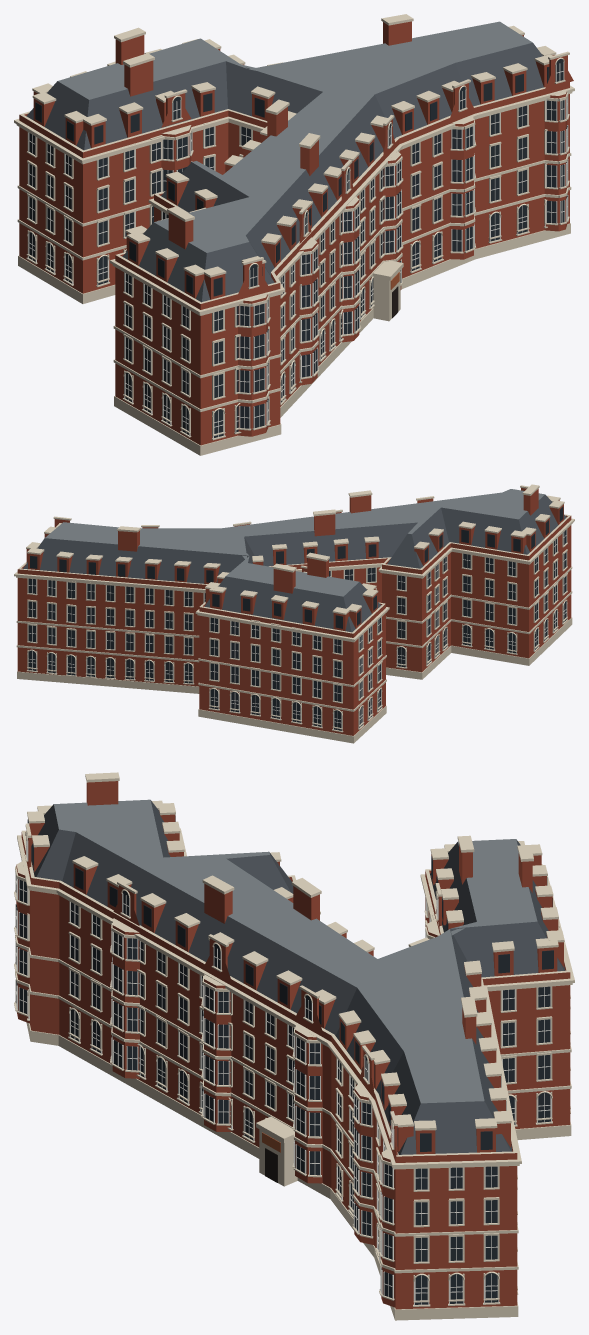
File: queen_alexandras_house.glb
3 renders of one model, top to bottom at view 1: azimuth 30°, elevation 25°; view 2: azimuth 150°, elevation 25°; view 3: azimuth 270°, elevation 25°, orthographic. The views are drawn at different scales.
Size of the model in its own units: 59.27 by 24.95 by 47.29.
